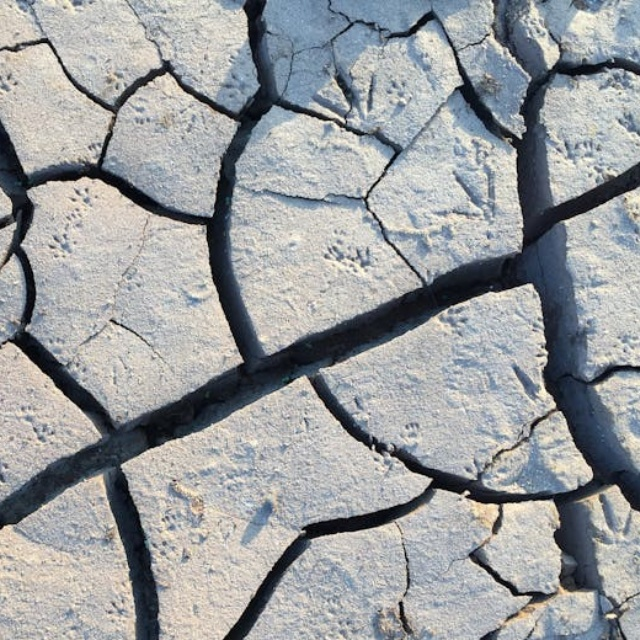深大裂缝: (0, 256, 640, 573), (440, 0, 640, 640), (60, 564, 229, 640)
